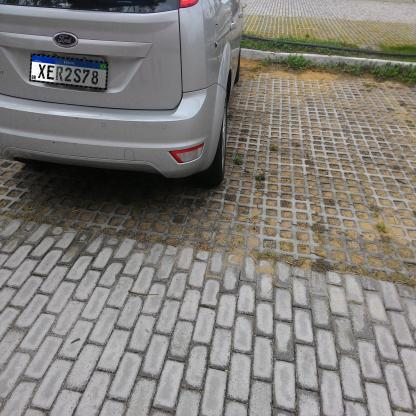PlacaM: (30, 53, 108, 90)
